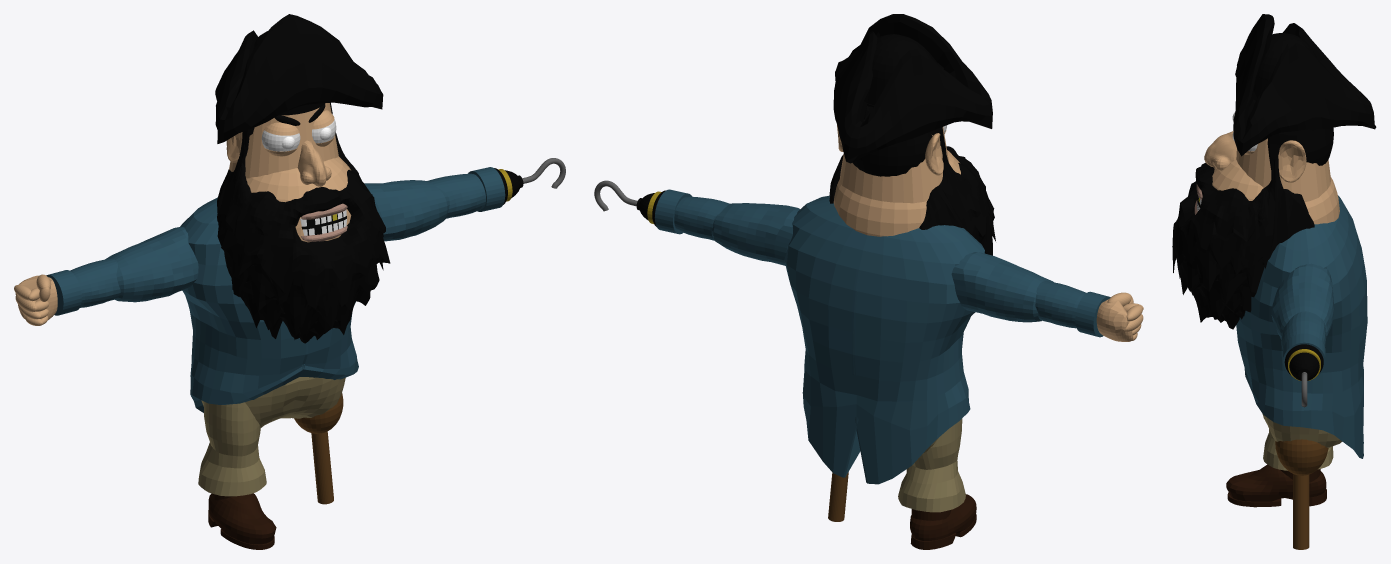
File: Panglang The Pirate.fbx
3 views of the same model, side by side, from view 1: azimuth 30°, elevation 25°; view 2: azimuth 150°, elevation 25°; view 3: azimuth 270°, elevation 25° (orthographic).
Parts seen in each view (by area): view 1: Beard, Torso, Torus, Pants, Right, Head, Arm, Upper Right, Arm, Upper Left, Groin, Arm, Forearm Right, Arm, Forearm Left, Boot, Peg Leg (+2 smaller); view 2: Torso, Torus, Head, Arm, Upper Right, Beard, Arm, Upper Left, Pants, Right, Arm, Forearm Right, Arm, Forearm Left, Head Hair, Boot, Head Wrap 1 (+2 smaller); view 3: Torso, Beard, Torus, Head, Arm, Upper Left, Peg Leg, Boot, Head Hair, Arm, Forearm Left, Groin, Ears, Head Wrap 1 (+5 smaller).
Part boxes in pixels (box(x1,y1,x2,y2)): Beard: box(217, 132, 390, 343); Torso: box(180, 197, 358, 412); Torus: box(215, 14, 383, 143); Pants, Right: box(198, 402, 266, 496); Head: box(229, 103, 351, 242); Arm, Upper Right: box(105, 226, 198, 302); Arm, Upper Left: box(364, 180, 449, 241); Groin: box(201, 377, 345, 427); Arm, Forearm Right: box(46, 258, 120, 315); Arm, Forearm Left: box(428, 167, 505, 218); Boot: box(208, 493, 276, 544); Peg Leg: box(294, 393, 343, 504); Torso: box(784, 195, 984, 484); Torus: box(833, 14, 992, 163); Head: box(833, 127, 960, 236); Arm, Upper Right: box(951, 252, 1053, 322); Beard: box(829, 137, 995, 255); Arm, Upper Left: box(711, 203, 800, 265); Pants, Right: box(898, 418, 965, 512); Arm, Forearm Right: box(1035, 281, 1110, 337); Arm, Forearm Left: box(654, 189, 729, 240); Head Hair: box(852, 105, 945, 176); Boot: box(910, 494, 976, 540); Head Wrap 1: box(872, 34, 932, 80); Torso: box(1236, 195, 1367, 458); Beard: box(1172, 154, 1314, 329); Torus: box(1233, 14, 1376, 156); Head: box(1212, 138, 1339, 224); Arm, Upper Left: box(1271, 263, 1334, 339); Peg Leg: box(1275, 439, 1328, 549); Boot: box(1226, 464, 1326, 501); Head Hair: box(1267, 128, 1333, 169); Arm, Forearm Left: box(1281, 311, 1325, 377); Groin: box(1262, 413, 1342, 447); Ears: box(1279, 140, 1306, 182); Head Wrap 1: box(1257, 33, 1316, 80).
Size of the model in its own units: 350 by 311 by 114.
